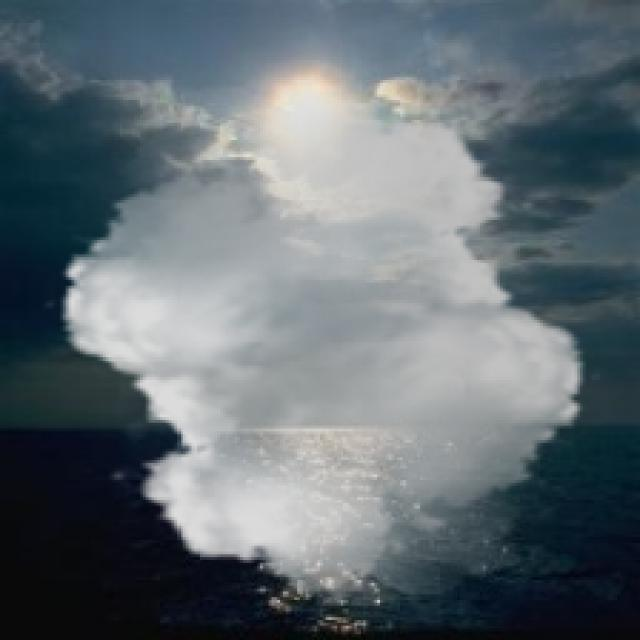smoke: (40, 74, 606, 606)
